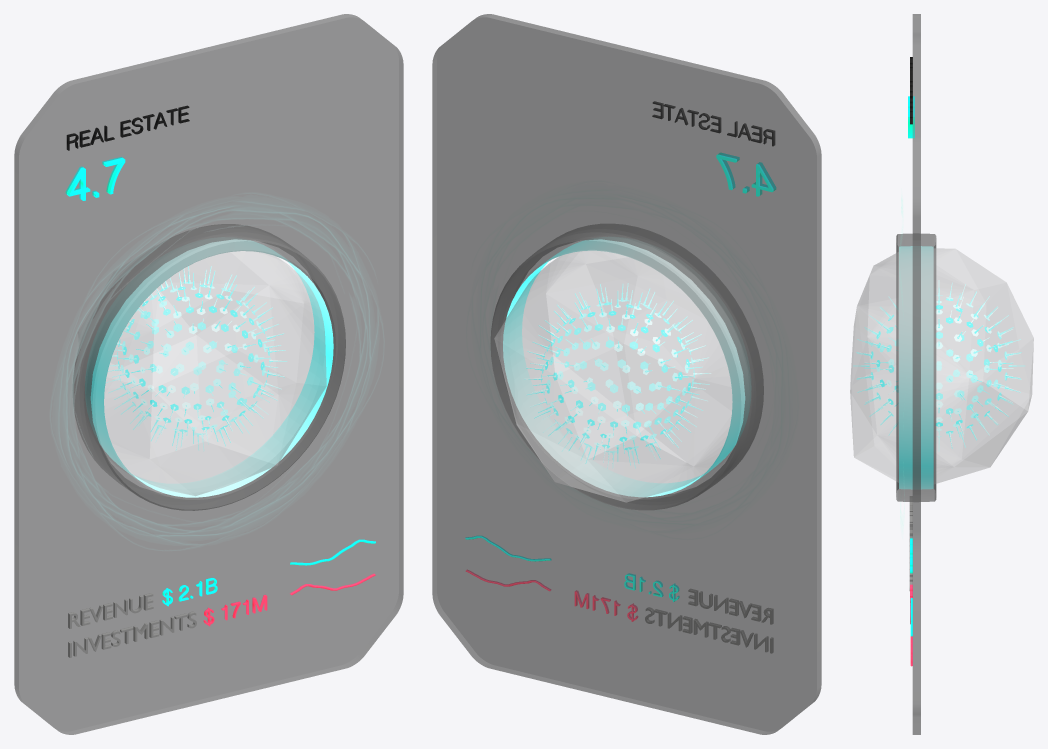
The picture shows the model from 3 angles, left to right: view 1: azimuth 30°, elevation 25°; view 2: azimuth 150°, elevation 25°; view 3: azimuth 270°, elevation 25°; orthographic projection. The views are drawn at different scales.
Parts seen in each view (by area): view 1: baseGreen.006, Glass.007, Corner.006, neon-corner.007, baseCorner.006, neon-sphereBase.006, Text.042, neon-sphere.008, Text.044, neon-rimGreen.006, Text.041, Text.043; view 2: baseGreen.006, Glass.007, Corner.006, neon-corner.007, baseCorner.006, neon-sphere.008, Text.042, Text.044, Text.041, Text.043; view 3: Glass.007, Corner.006, neon-corner.007, baseCorner.006, neon-sphere.008, neon-sphereBase.006.
Part boxes in pixels (left/top/right/bottom): baseGreen.006: left=14, top=14, right=403, bottom=734; Glass.007: left=104, top=251, right=326, bottom=495; Corner.006: left=74, top=224, right=345, bottom=510; neon-corner.007: left=85, top=237, right=333, bottom=497; baseCorner.006: left=14, top=14, right=403, bottom=734; neon-sphereBase.006: left=117, top=282, right=270, bottom=434; Text.042: left=68, top=611, right=196, bottom=657; neon-sphere.008: left=112, top=266, right=278, bottom=449; Text.044: left=66, top=105, right=189, bottom=150; neon-rimGreen.006: left=66, top=206, right=370, bottom=536; Text.041: left=68, top=593, right=153, bottom=628; Text.043: left=65, top=157, right=125, bottom=200; baseGreen.006: left=432, top=14, right=821, bottom=734; Glass.007: left=494, top=251, right=732, bottom=502; Corner.006: left=490, top=224, right=763, bottom=510; neon-corner.007: left=503, top=237, right=750, bottom=497; baseCorner.006: left=432, top=14, right=821, bottom=734; neon-sphere.008: left=524, top=283, right=711, bottom=469; Text.042: left=645, top=607, right=773, bottom=653; Text.044: left=652, top=101, right=774, bottom=146; Text.041: left=688, top=589, right=773, bottom=624; Text.043: left=716, top=153, right=775, bottom=196; Glass.007: left=850, top=248, right=1033, bottom=483; Corner.006: left=896, top=233, right=936, bottom=501; neon-corner.007: left=899, top=246, right=933, bottom=489; baseCorner.006: left=912, top=14, right=920, bottom=734; neon-sphere.008: left=853, top=280, right=1024, bottom=451; neon-sphereBase.006: left=870, top=295, right=1007, bottom=436.
Bounding box in the file's own units: 1.47 × 2.38 × 0.666.
Materials: 8 (1 with a texture image).
